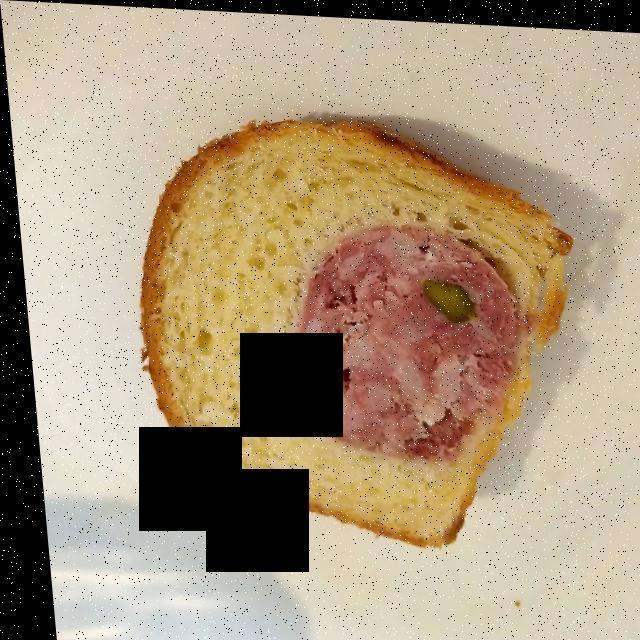bread: (144, 108, 573, 549), (137, 124, 560, 535)
sausage: (279, 230, 523, 451), (292, 225, 520, 455)
